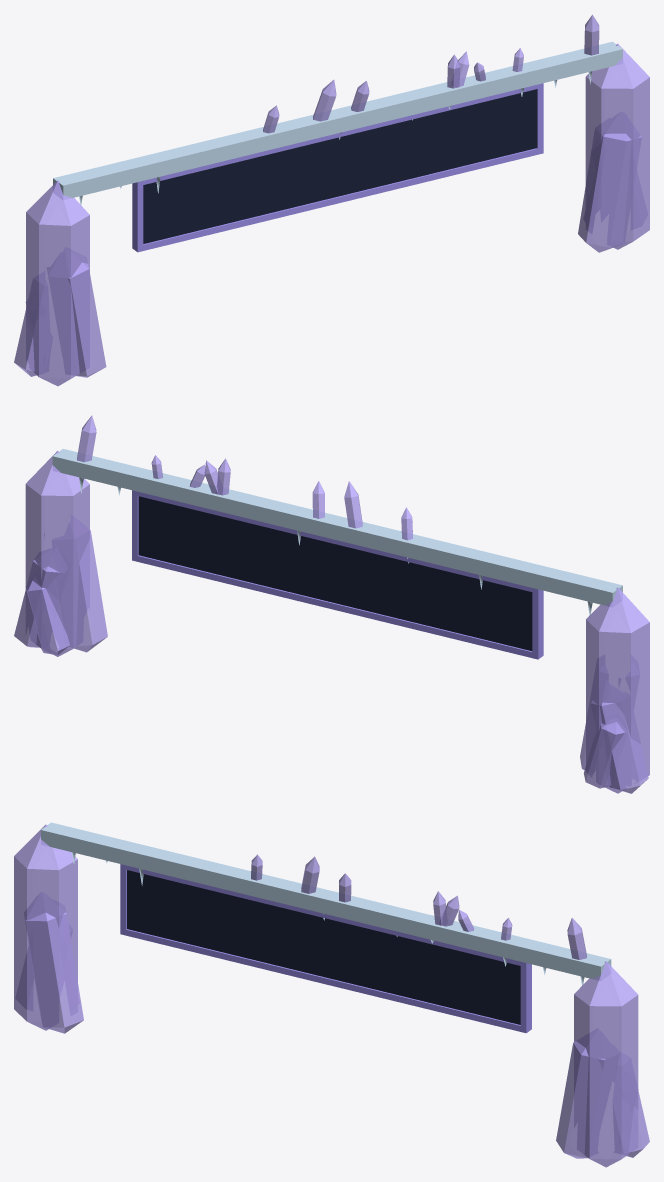
The model's file is ZoneArch_Crystal.glb.
3 renders of one model, top to bottom at view 1: azimuth 30°, elevation 25°; view 2: azimuth 150°, elevation 25°; view 3: azimuth 330°, elevation 25°, orthographic.
Parts seen in each view (by area): view 1: Crystals, SignPanel, Ice, SignFrame; view 2: Crystals, SignPanel, Ice, SignFrame; view 3: Crystals, SignPanel, Ice, SignFrame.
Part boxes in pixels (box(x1,y1,x2,y2)): Crystals: box(14, 14, 649, 386); SignPanel: box(143, 89, 536, 243); Ice: box(53, 41, 622, 204); SignFrame: box(132, 83, 543, 252); Crystals: box(14, 415, 649, 793); SignPanel: box(138, 496, 532, 650); Ice: box(52, 449, 622, 615); SignFrame: box(132, 490, 543, 659); Crystals: box(14, 824, 649, 1167); SignPanel: box(127, 870, 520, 1024); Ice: box(41, 822, 611, 985); SignFrame: box(120, 864, 531, 1033).
Size of the model in its own units: 98.54 by 36.95 by 9.66.
